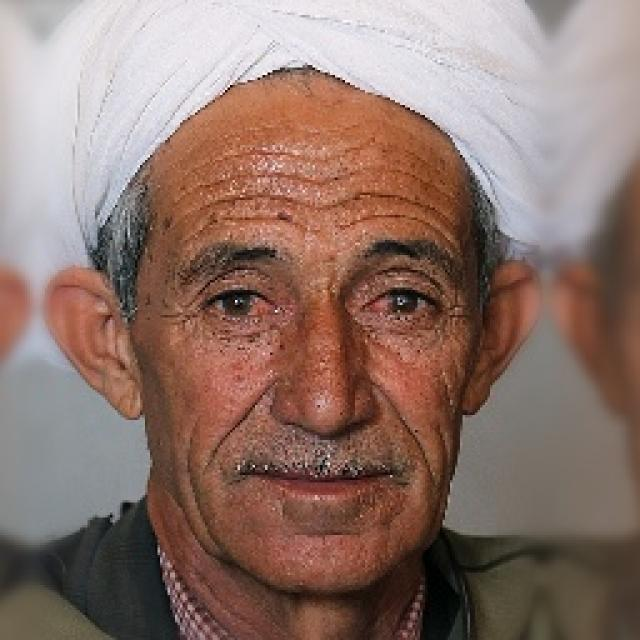no-glasses: (172, 253, 473, 338)
